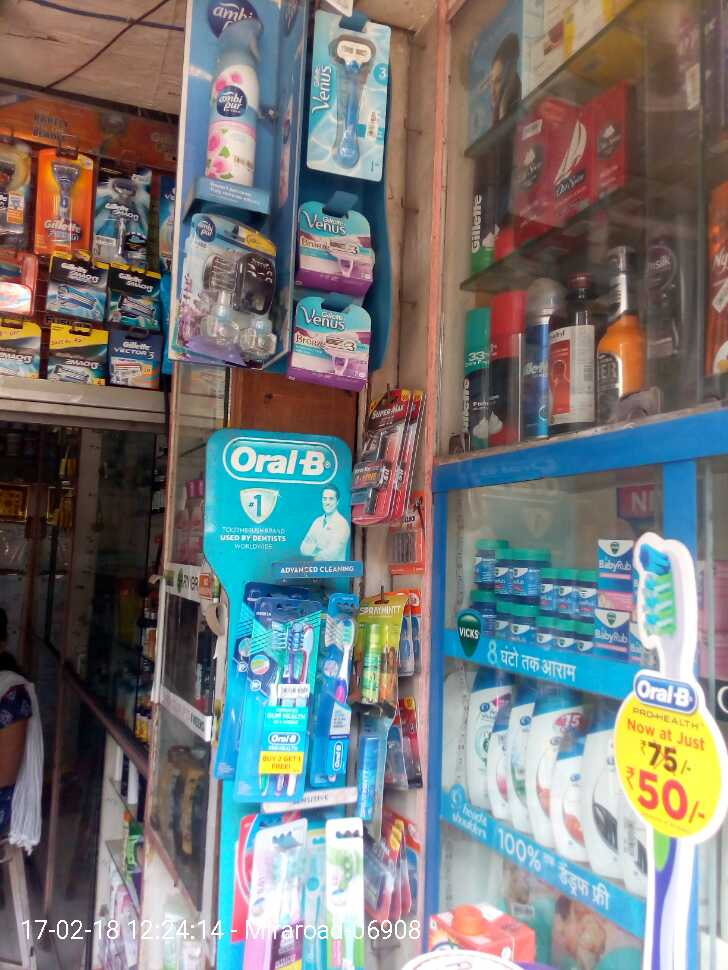beauty: (304, 7, 392, 175), (290, 293, 377, 384), (580, 697, 622, 880), (542, 690, 581, 866), (459, 674, 503, 816), (300, 201, 372, 286), (39, 147, 87, 260), (100, 157, 148, 263), (459, 315, 498, 443), (454, 162, 501, 266), (489, 298, 519, 448), (513, 697, 542, 847), (43, 259, 109, 322), (46, 319, 107, 381), (110, 262, 165, 330), (109, 330, 166, 387)
home: (180, 209, 284, 368), (207, 10, 262, 181)
pharmacy: (268, 612, 313, 798), (327, 604, 360, 786), (593, 539, 634, 607), (512, 545, 537, 603), (595, 615, 630, 653), (553, 566, 577, 618), (472, 540, 498, 584), (578, 566, 598, 618), (539, 566, 559, 613), (496, 543, 512, 601)
